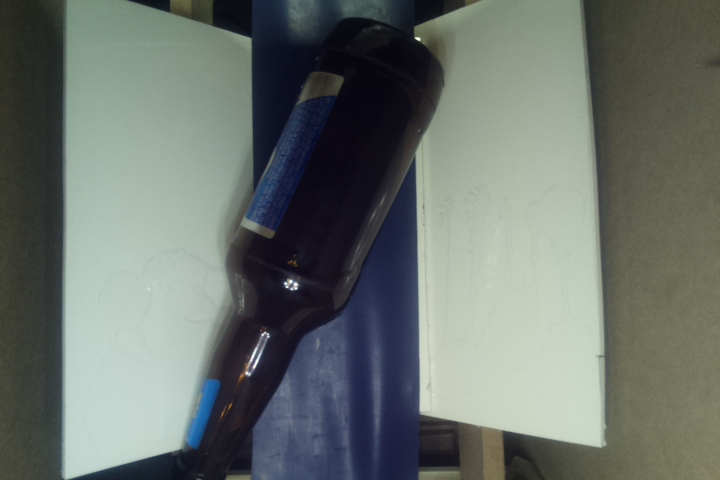makju: (168, 16, 446, 477)
